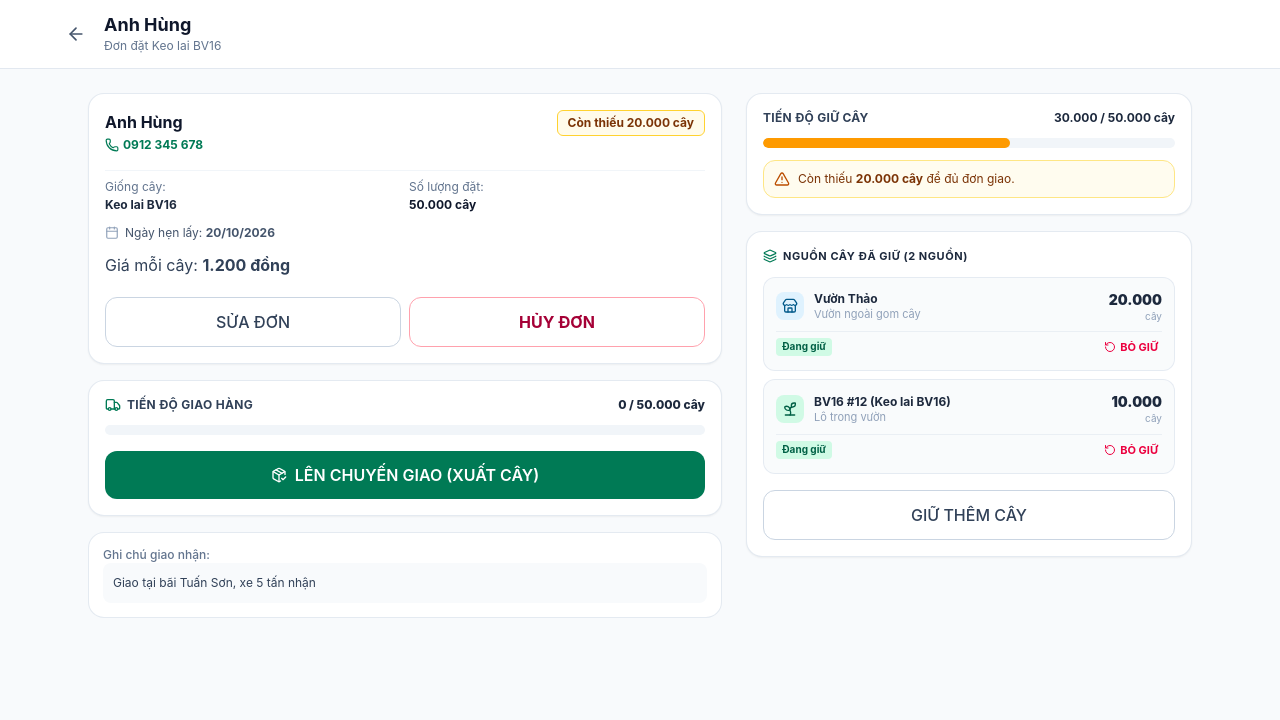
Test case: FC2 Order Edit/Cancel UI › permits reduction to coverage and blocks lower demand without pretending to reconcile
This screenshot has width=1280, height=720.
Click the button "SỬA ĐƠN". click: point(253, 322)
box: [105,297,401,347]
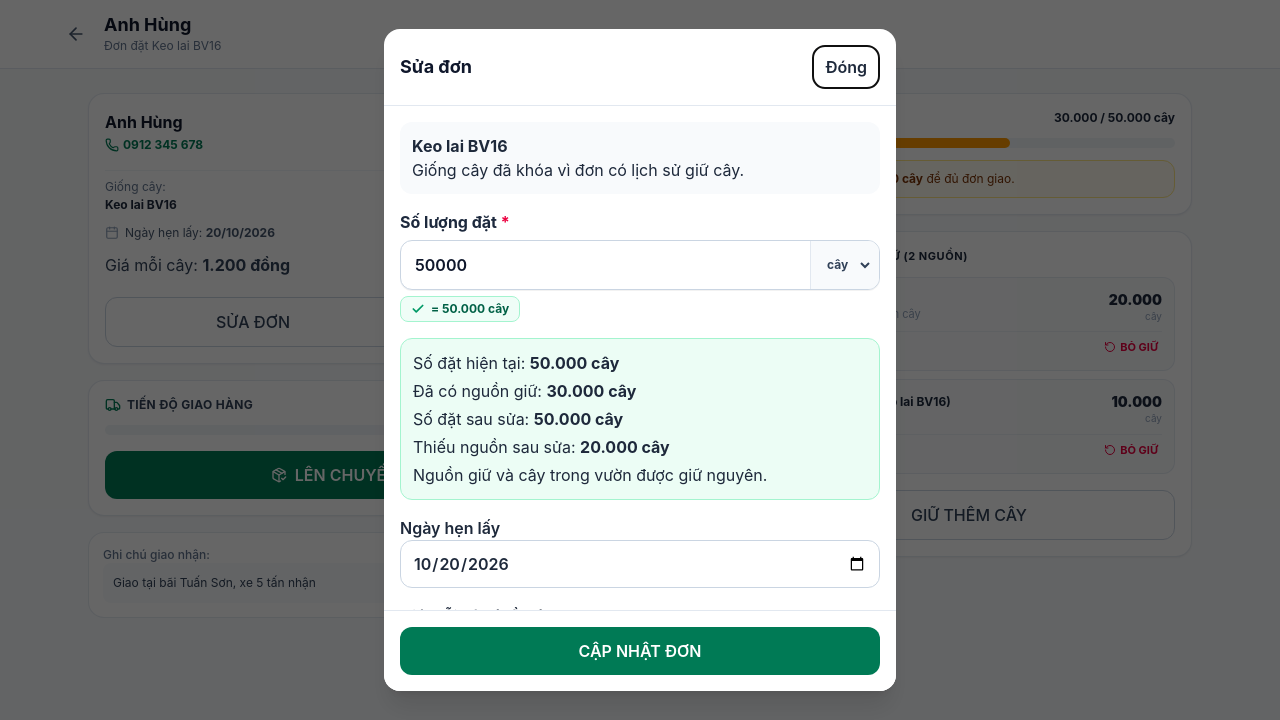
Replace the text in the field labelled "Số lượng đặt *" with "25000". click: point(606, 265)
box: [401,241,810,289]
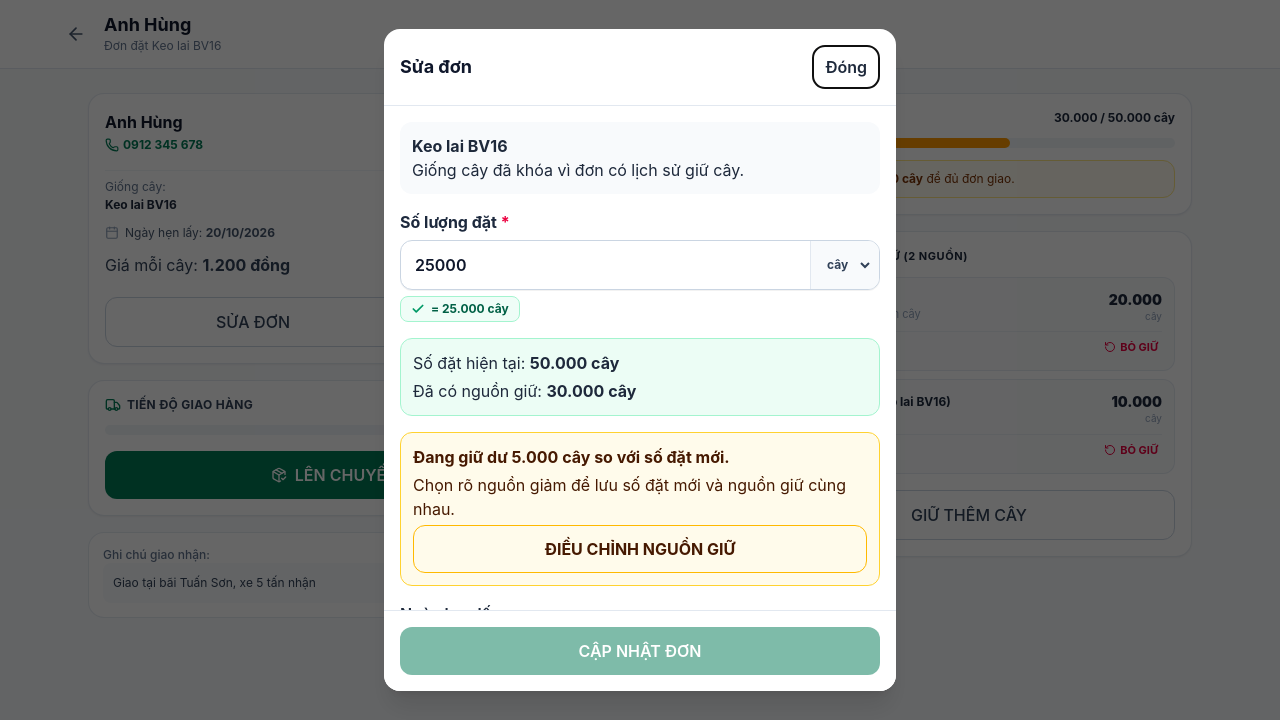
Now the text "Đang giữ dư 5.000 cây so với số đặt mới." is shown, box [413,447,730,467]
Now the button "CẬP NHẬT ĐƠN" is disabled, box [400,627,880,675]
Replace the text in the field labelled "Số lượng đặt *" with "30000". click: point(606, 265)
box: [401,241,810,289]
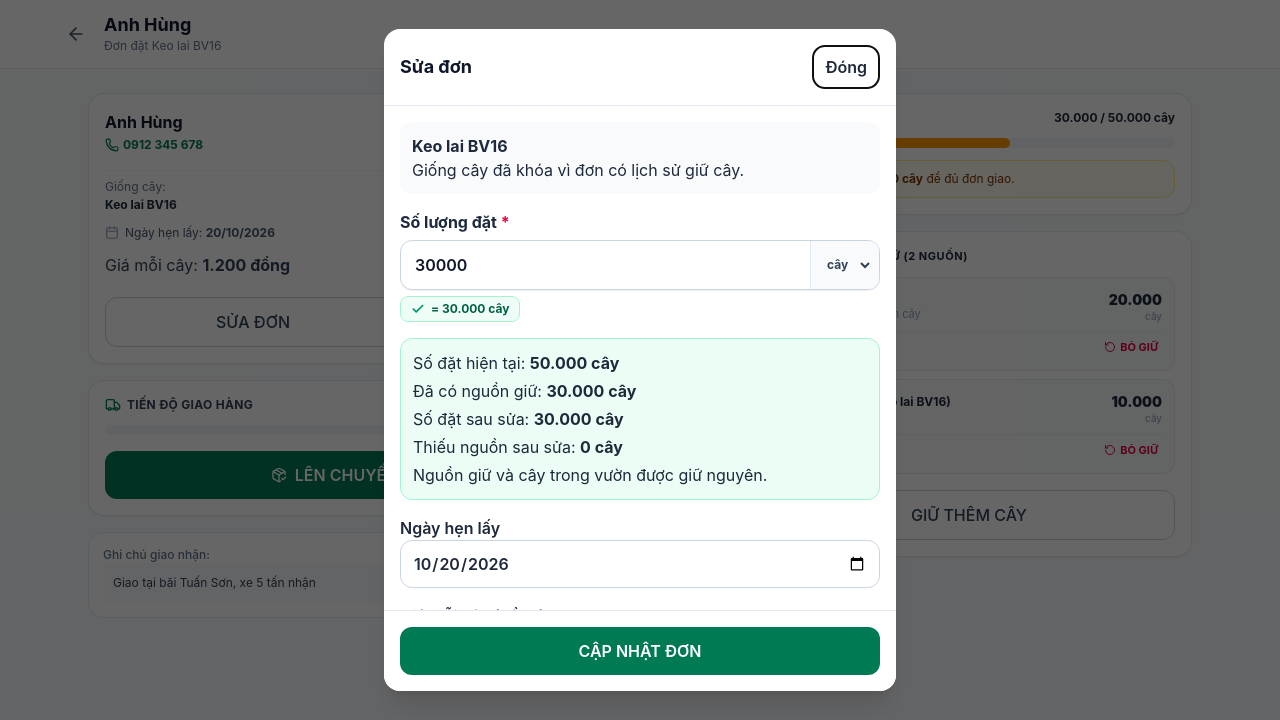
Now the text "Thiếu nguồn sau sửa: 0 cây" is shown, box [413,437,623,457]
Click the button "CẬP NHẬT ĐƠN". click: point(640, 651)
box: [400,627,880,675]
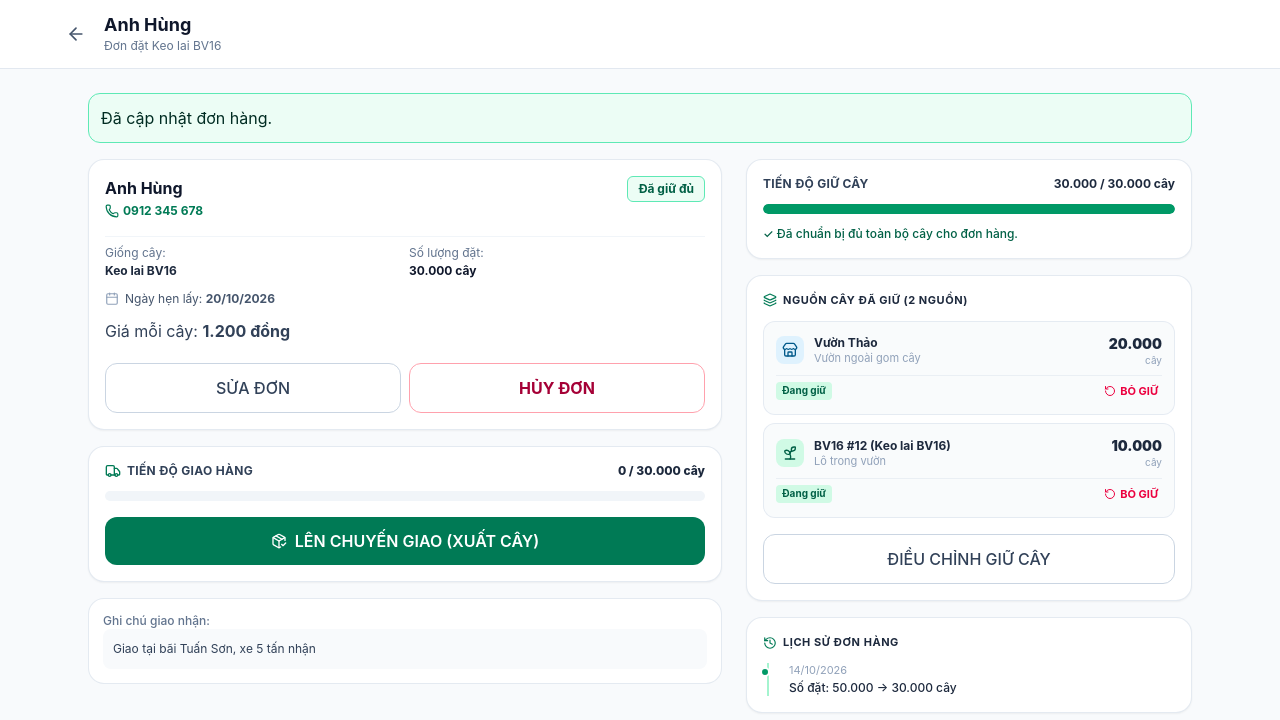
Now the message "Đã cập nhật đơn hàng." is shown, box [88,93,1192,143]
